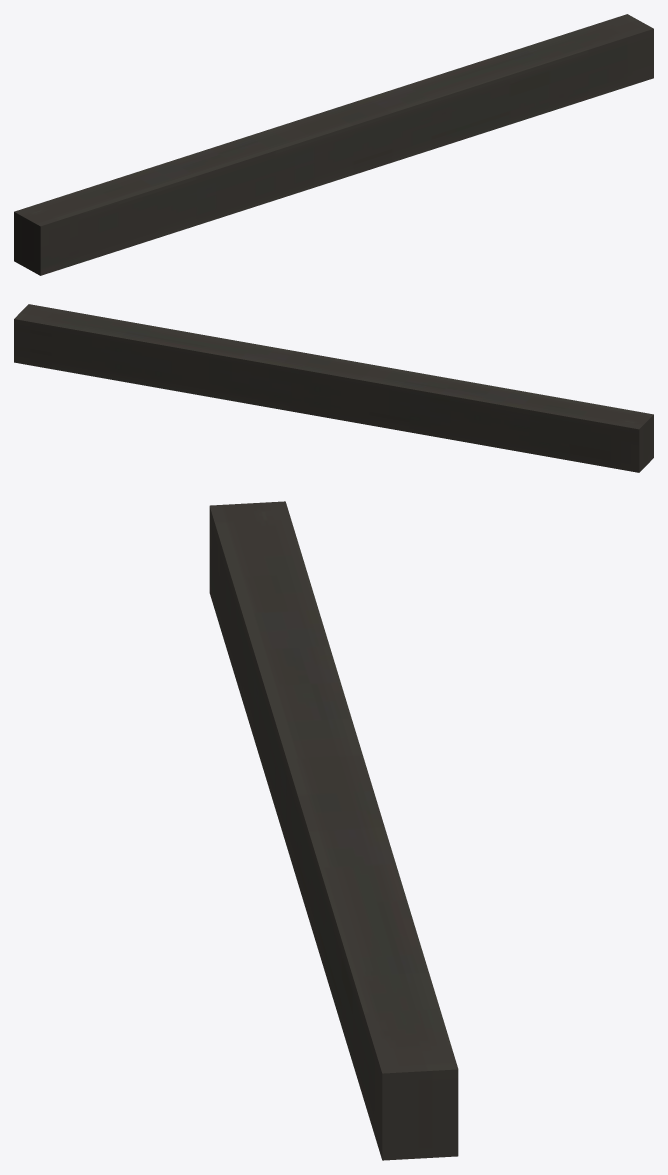
Rendered from frame__lower_rail_pos.glb.
3 views of the same model, one above another, from view 1: azimuth 30°, elevation 25°; view 2: azimuth 150°, elevation 25°; view 3: azimuth 270°, elevation 25° (orthographic). The views are drawn at different scales.
Visible parts, largest first — view 1: world; view 2: world; view 3: world.
Boxes of the visible parts, x1,y1,x2,y2 form: world: (14,14,653,275); world: (14,304,653,472); world: (209,501,458,1160).
Size of the model in its own units: 0.7051 by 0.05 by 0.1297.
1 material, 1 textured.
